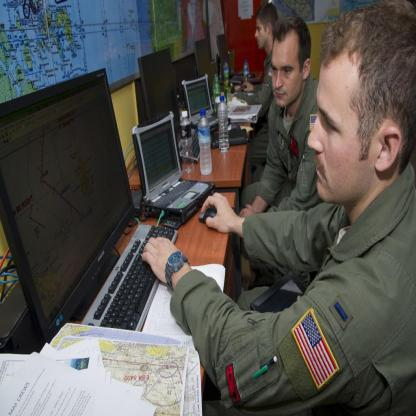board: (131, 109, 214, 223), (182, 72, 218, 128), (198, 110, 212, 176), (180, 111, 194, 173), (218, 97, 230, 152), (213, 76, 221, 112), (223, 73, 231, 105), (224, 58, 229, 89), (244, 57, 249, 82)
